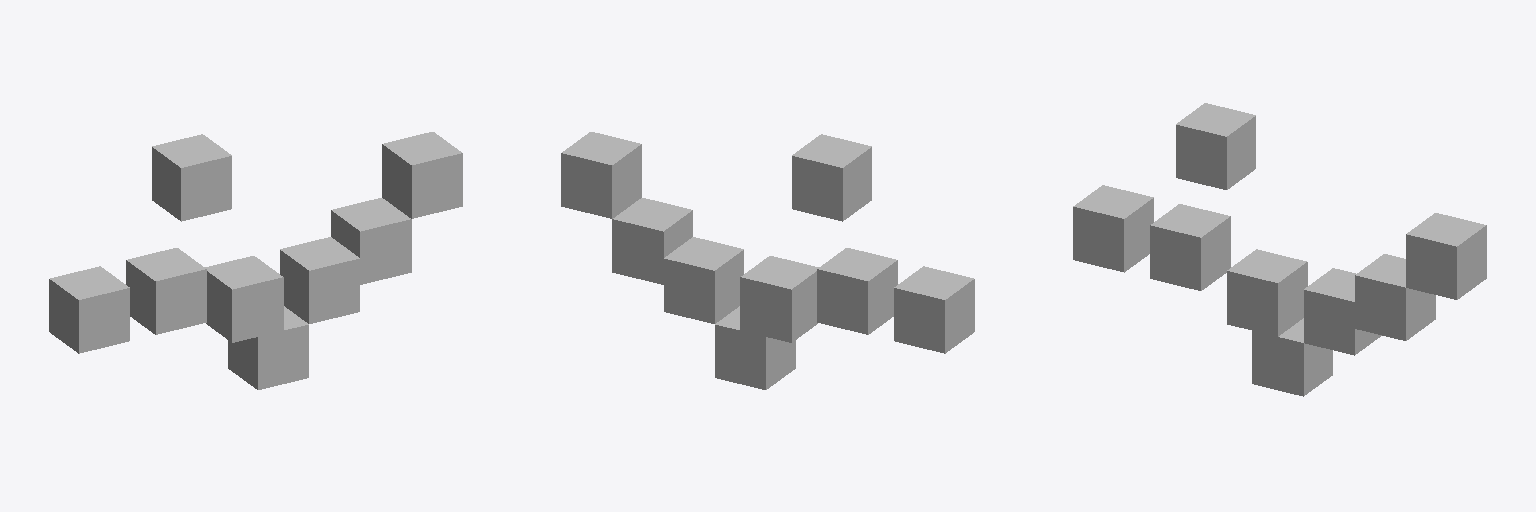
3 renders of one model, left to right at view 1: azimuth 30°, elevation 25°; view 2: azimuth 150°, elevation 25°; view 3: azimuth 330°, elevation 25°, orthographic.
Visible parts, largest first — view 1: 0ZSpGdYar6ueT_s2Wn1gug, 3RjpoTJ6v15uWoRvk50YM8, 1MNxogoh5069Ce10DJPnvR, 13R$bdvVf0heFFbt22IGwL, 3RwU3xrc53lANSpF74qA__, 0wplyZKoP0BPpAwLTj53mA, 0DId5LFxr40vKS6h0NQ6Pt, 1WS2jsl1v6zRraJAvJamB5; view 2: 0ZSpGdYar6ueT_s2Wn1gug, 3RjpoTJ6v15uWoRvk50YM8, 1MNxogoh5069Ce10DJPnvR, 13R$bdvVf0heFFbt22IGwL, 3RwU3xrc53lANSpF74qA__, 0wplyZKoP0BPpAwLTj53mA, 0DId5LFxr40vKS6h0NQ6Pt, 1WS2jsl1v6zRraJAvJamB5; view 3: 3RjpoTJ6v15uWoRvk50YM8, 13R$bdvVf0heFFbt22IGwL, 1MNxogoh5069Ce10DJPnvR, 0wplyZKoP0BPpAwLTj53mA, 0ZSpGdYar6ueT_s2Wn1gug, 0DId5LFxr40vKS6h0NQ6Pt, 1WS2jsl1v6zRraJAvJamB5, 3RwU3xrc53lANSpF74qA__.
Part boxes in pixels (left/top/right/bottom): 0ZSpGdYar6ueT_s2Wn1gug: left=49, top=266, right=129, bottom=353; 3RjpoTJ6v15uWoRvk50YM8: left=382, top=132, right=462, bottom=218; 1MNxogoh5069Ce10DJPnvR: left=152, top=134, right=231, bottom=221; 13R$bdvVf0heFFbt22IGwL: left=126, top=248, right=206, bottom=334; 3RwU3xrc53lANSpF74qA__: left=280, top=237, right=359, bottom=323; 0wplyZKoP0BPpAwLTj53mA: left=205, top=256, right=283, bottom=342; 0DId5LFxr40vKS6h0NQ6Pt: left=331, top=198, right=411, bottom=284; 1WS2jsl1v6zRraJAvJamB5: left=228, top=306, right=308, bottom=389; 0ZSpGdYar6ueT_s2Wn1gug: left=894, top=266, right=974, bottom=353; 3RjpoTJ6v15uWoRvk50YM8: left=561, top=132, right=641, bottom=218; 1MNxogoh5069Ce10DJPnvR: left=792, top=134, right=871, bottom=221; 13R$bdvVf0heFFbt22IGwL: left=817, top=248, right=897, bottom=334; 3RwU3xrc53lANSpF74qA__: left=664, top=237, right=743, bottom=323; 0wplyZKoP0BPpAwLTj53mA: left=740, top=256, right=818, bottom=342; 0DId5LFxr40vKS6h0NQ6Pt: left=612, top=198, right=692, bottom=284; 1WS2jsl1v6zRraJAvJamB5: left=715, top=306, right=795, bottom=389; 3RjpoTJ6v15uWoRvk50YM8: left=1406, top=213, right=1486, bottom=299; 13R$bdvVf0heFFbt22IGwL: left=1150, top=204, right=1230, bottom=290; 1MNxogoh5069Ce10DJPnvR: left=1176, top=103, right=1255, bottom=189; 0wplyZKoP0BPpAwLTj53mA: left=1227, top=249, right=1307, bottom=336; 0ZSpGdYar6ueT_s2Wn1gug: left=1073, top=185, right=1153, bottom=272; 0DId5LFxr40vKS6h0NQ6Pt: left=1355, top=254, right=1435, bottom=340; 1WS2jsl1v6zRraJAvJamB5: left=1252, top=318, right=1332, bottom=396; 3RwU3xrc53lANSpF74qA__: left=1304, top=268, right=1381, bottom=355.
Bounding box in the file's own units: 15 × 9 × 2.